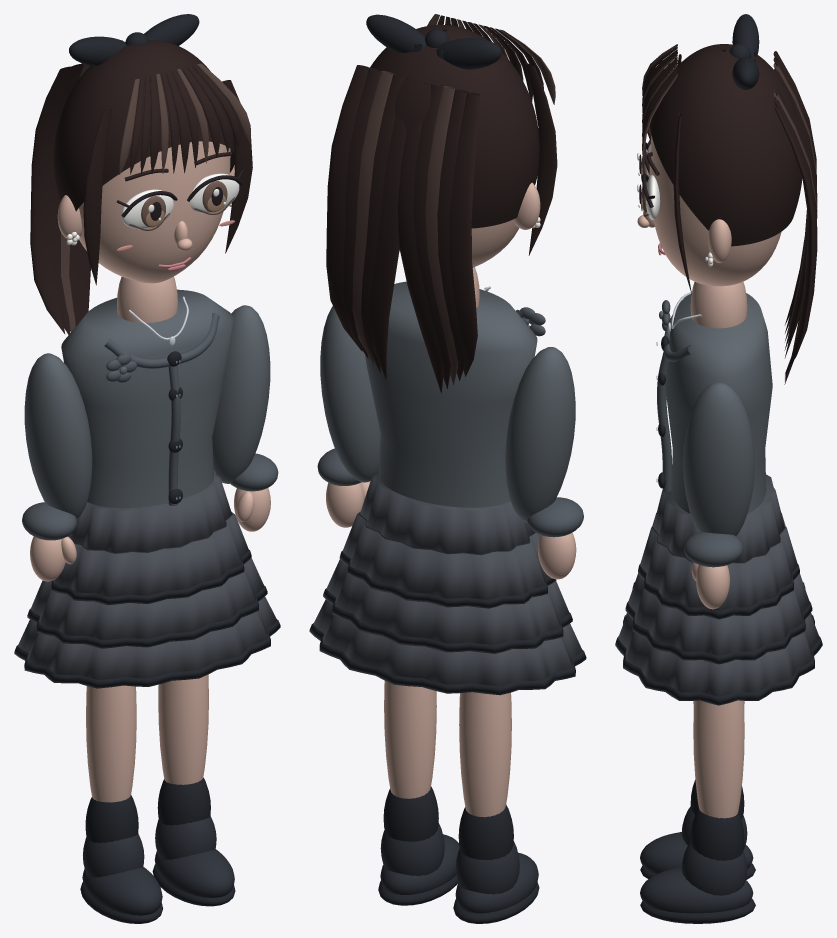
Rendered from liv-reference-v1.glb.
The picture shows the model from 3 angles, left to right: view 1: azimuth 30°, elevation 25°; view 2: azimuth 150°, elevation 25°; view 3: azimuth 270°, elevation 25°; orthographic projection. The views are drawn at different scales.
Parts seen in each view (by area): view 1: Body__Graphite tiered skirt, Body__Espresso brown hair, Body__Charcoal cardigan, Body__Warm porcelain, Body__Black ribbon and skirt trim, Arm_-1__Charcoal cardigan, Arm_1__Charcoal cardigan, Leg_-1__Warm porcelain, Leg_1__Warm porcelain, Leg_1__Black leather boots, Leg_-1__Black leather boots, Body__Hair soft highlight (+10 smaller); view 2: Body__Espresso brown hair, Body__Graphite tiered skirt, Body__Charcoal cardigan, Body__Black ribbon and skirt trim, Arm_-1__Charcoal cardigan, Body__Hair soft highlight, Arm_1__Charcoal cardigan, Leg_-1__Warm porcelain, Leg_1__Warm porcelain, Leg_-1__Black leather boots, Leg_1__Black leather boots, Leg_-1__Black ribbon and skirt trim (+6 smaller); view 3: Body__Espresso brown hair, Body__Graphite tiered skirt, Body__Charcoal cardigan, Arm_1__Charcoal cardigan, Body__Warm porcelain, Body__Black ribbon and skirt trim, Leg_1__Warm porcelain, Leg_1__Black leather boots, Leg_1__Black ribbon and skirt trim, Leg_-1__Black leather boots, Body__Hair soft highlight, Body__Knit rib trim (+4 smaller).
Part boxes in pixels (left/top/right/bottom): Body__Graphite tiered skirt: left=14, top=470, right=280, bottom=688; Body__Espresso brown hair: left=30, top=40, right=252, bottom=334; Body__Charcoal cardigan: left=61, top=289, right=233, bottom=508; Body__Warm porcelain: left=57, top=141, right=234, bottom=322; Body__Black ribbon and skirt trim: left=14, top=14, right=280, bottom=687; Arm_-1__Charcoal cardigan: left=24, top=353, right=92, bottom=518; Arm_1__Charcoal cardigan: left=212, top=305, right=270, bottom=483; Leg_-1__Warm porcelain: left=86, top=685, right=136, bottom=802; Leg_1__Warm porcelain: left=158, top=674, right=208, bottom=784; Leg_1__Black leather boots: left=154, top=816, right=234, bottom=897; Leg_-1__Black leather boots: left=82, top=833, right=162, bottom=915; Body__Hair soft highlight: left=61, top=63, right=250, bottom=331; Body__Espresso brown hair: left=326, top=15, right=557, bottom=393; Body__Graphite tiered skirt: left=309, top=468, right=586, bottom=695; Body__Charcoal cardigan: left=365, top=281, right=537, bottom=507; Body__Black ribbon and skirt trim: left=309, top=14, right=586, bottom=693; Arm_-1__Charcoal cardigan: left=505, top=347, right=575, bottom=522; Body__Hair soft highlight: left=352, top=14, right=555, bottom=384; Arm_1__Charcoal cardigan: left=320, top=306, right=380, bottom=482; Leg_-1__Warm porcelain: left=459, top=692, right=511, bottom=817; Leg_1__Warm porcelain: left=384, top=681, right=436, bottom=798; Leg_-1__Black leather boots: left=455, top=841, right=538, bottom=913; Leg_1__Black leather boots: left=380, top=823, right=459, bottom=894; Leg_-1__Black ribbon and skirt trim: left=453, top=804, right=539, bottom=923; Body__Espresso brown hair: left=642, top=44, right=817, bottom=384; Body__Graphite tiered skirt: left=615, top=474, right=822, bottom=705; Body__Charcoal cardigan: left=659, top=293, right=772, bottom=513; Arm_1__Charcoal cardigan: left=683, top=382, right=754, bottom=535; Body__Warm porcelain: left=637, top=136, right=781, bottom=328; Body__Black ribbon and skirt trim: left=615, top=14, right=822, bottom=703; Leg_1__Warm porcelain: left=693, top=700, right=744, bottom=818; Leg_1__Black leather boots: left=640, top=842, right=753, bottom=913; Leg_1__Black ribbon and skirt trim: left=640, top=807, right=755, bottom=923; Leg_-1__Black leather boots: left=640, top=806, right=753, bottom=873; Body__Hair soft highlight: left=642, top=44, right=817, bottom=379; Body__Knit rib trim: left=657, top=300, right=691, bottom=491.
Size of the model in its own units: 0.96 by 3.17 by 0.6951.
